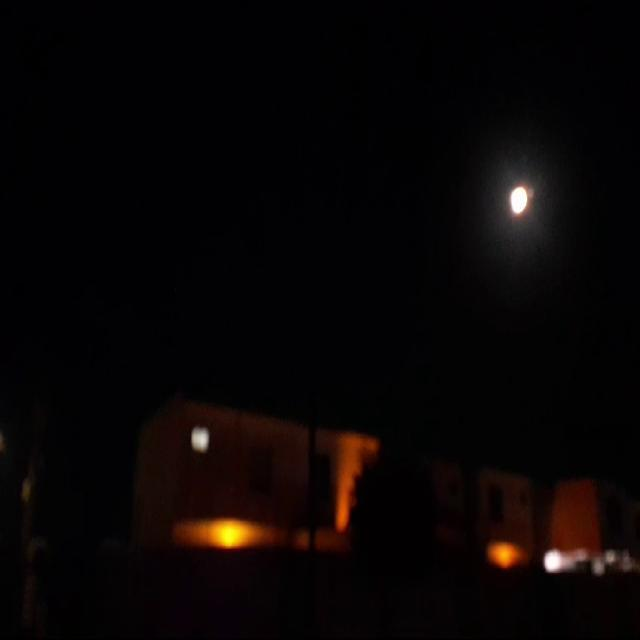moon: (510, 178, 533, 212)
